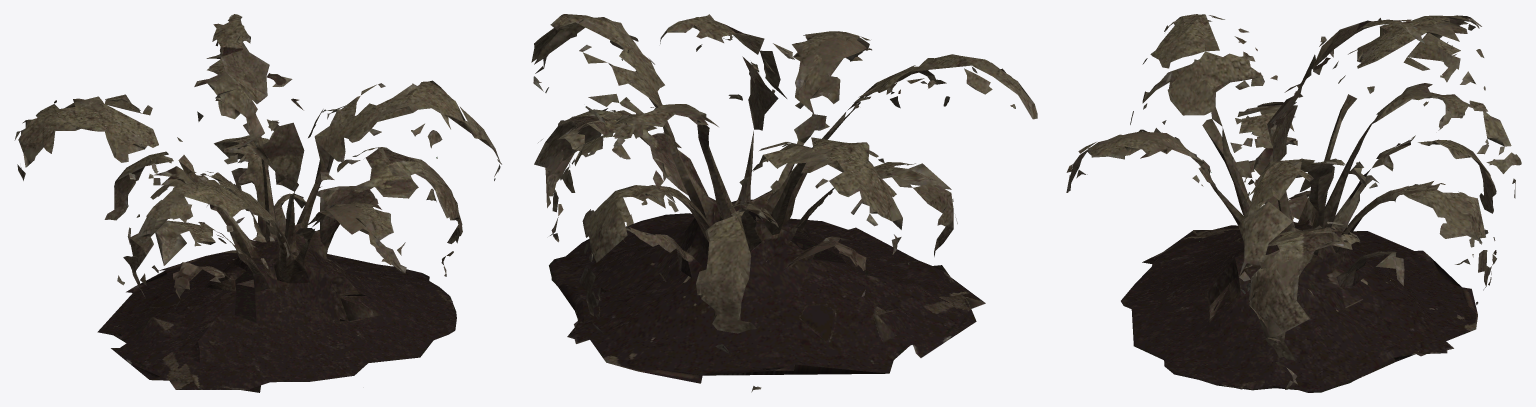
Rendered from b6-bracken-pixelated.glb.
3 views of the same model, side by side, from view 1: azimuth 30°, elevation 25°; view 2: azimuth 150°, elevation 25°; view 3: azimuth 270°, elevation 25° (orthographic). The views are drawn at different scales.
Parts seen in each view (by area): view 1: b6-bracken.glb; view 2: b6-bracken.glb; view 3: b6-bracken.glb.
Part boxes in pixels (left/top/right/bottom): b6-bracken.glb: left=14, top=14, right=501, bottom=392; b6-bracken.glb: left=531, top=14, right=1037, bottom=392; b6-bracken.glb: left=1066, top=14, right=1521, bottom=392.
Size of the model in its own units: 1.87 by 1.21 by 1.73.
1 material, 1 textured.
